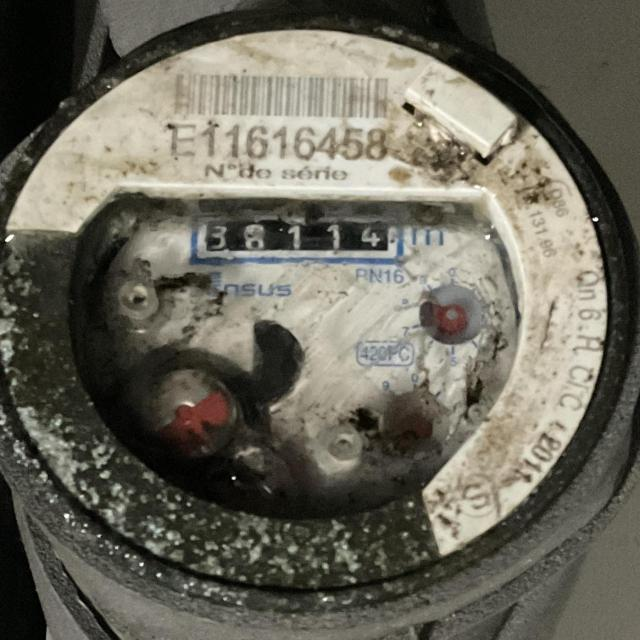gaz_meter: (0, 32, 609, 582)
indication: (195, 212, 407, 262)
